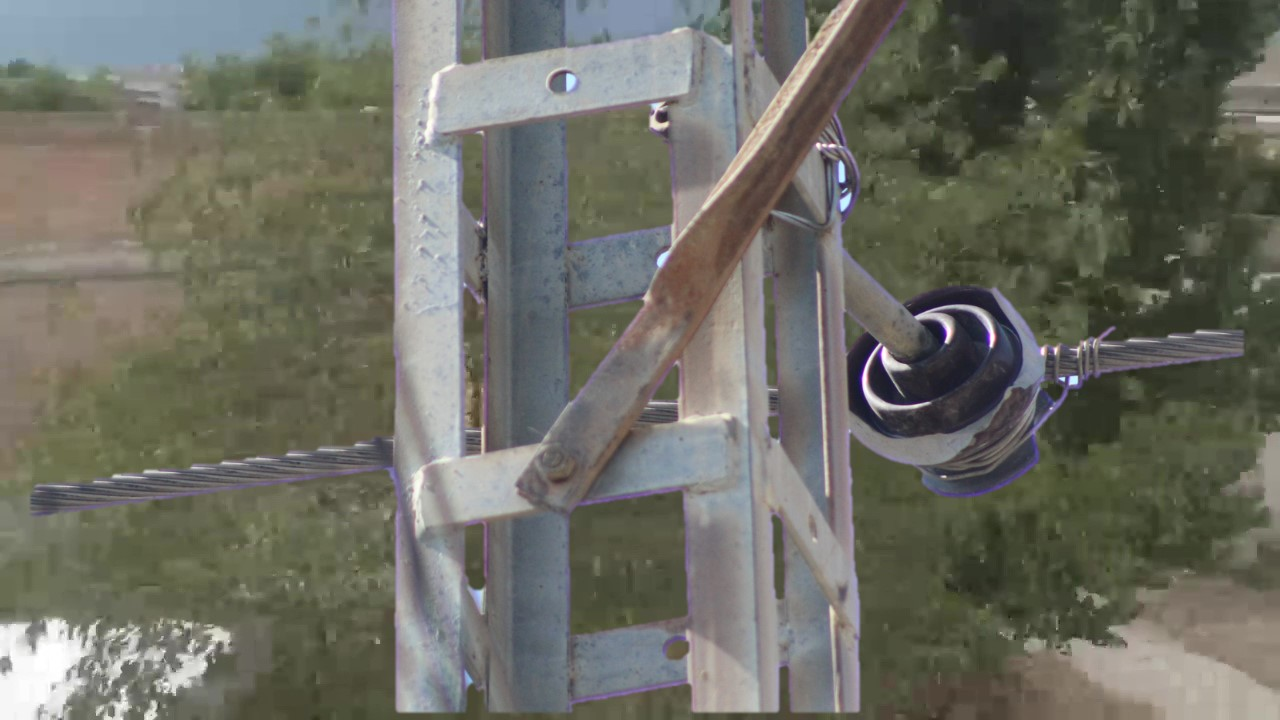defect_pin: (849, 276, 1074, 505)
